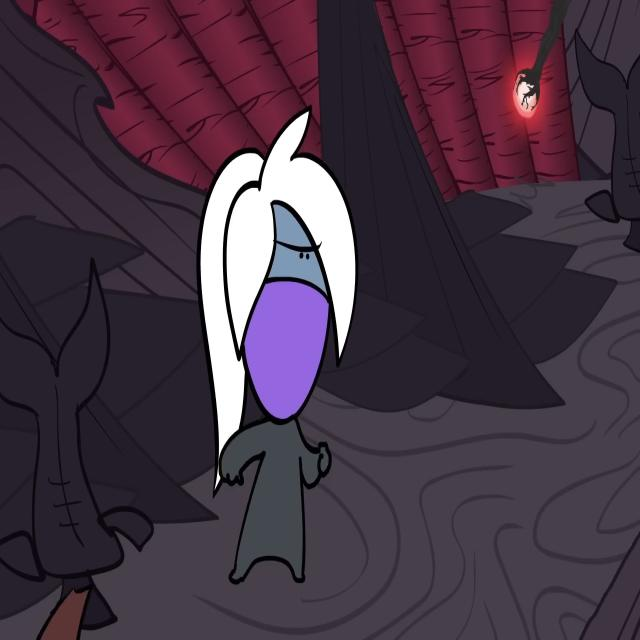miss Demeanor: (194, 95, 360, 590)
